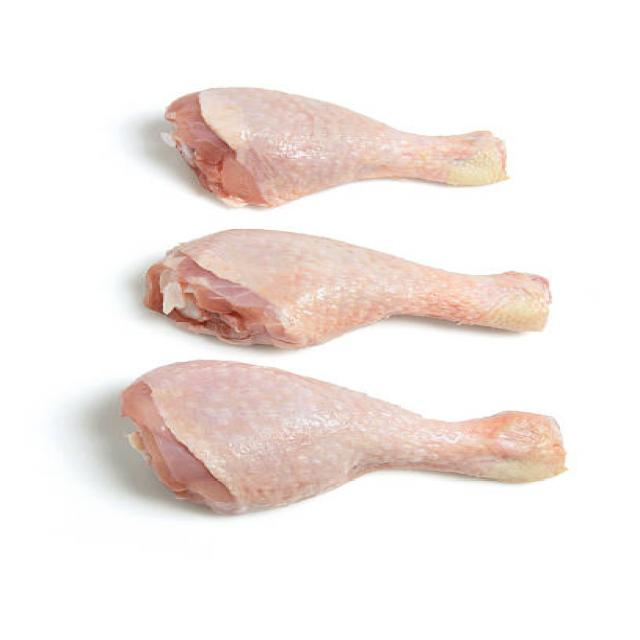Chicken: (100, 358, 572, 509), (139, 222, 556, 348), (148, 76, 511, 211)
